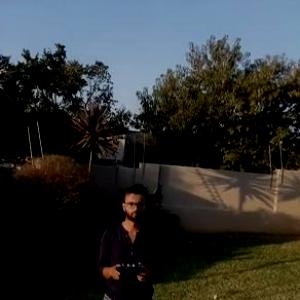follow: (90, 181, 162, 299)
